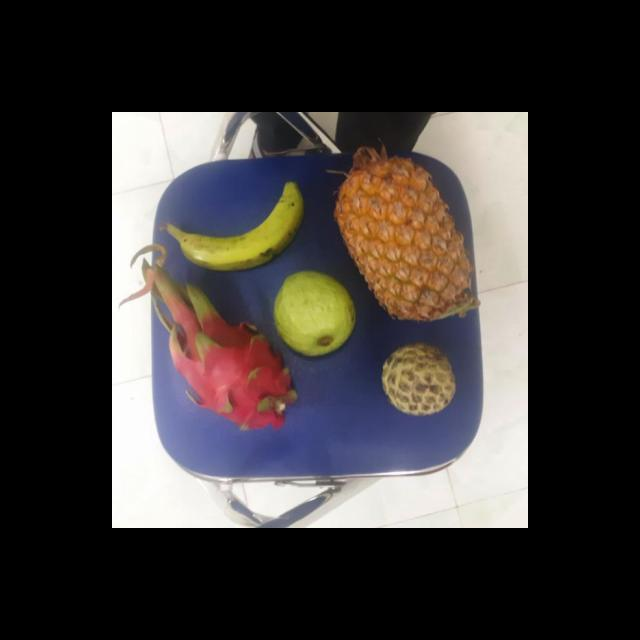Sakya fruit: (378, 345, 458, 417)
banana: (180, 179, 308, 273)
guava: (268, 272, 356, 358)
pineapple: (331, 150, 474, 320)
pitaya: (170, 322, 294, 432)
